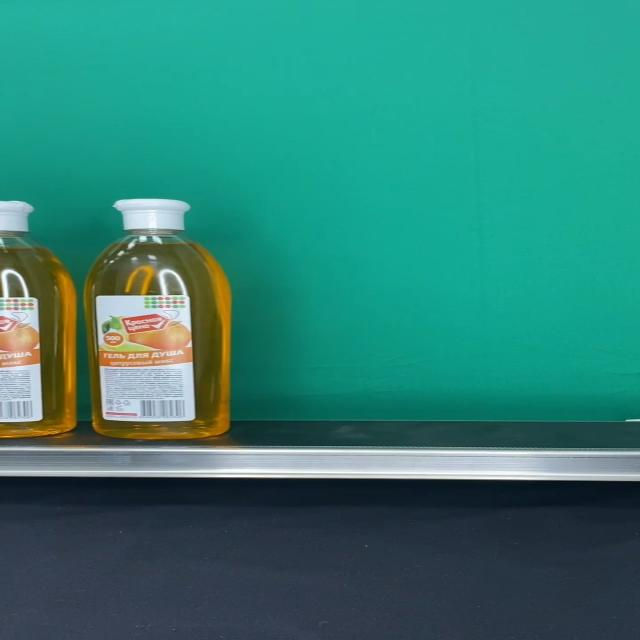Bottle: (86, 198, 231, 440)
Cap: (114, 199, 191, 231)
